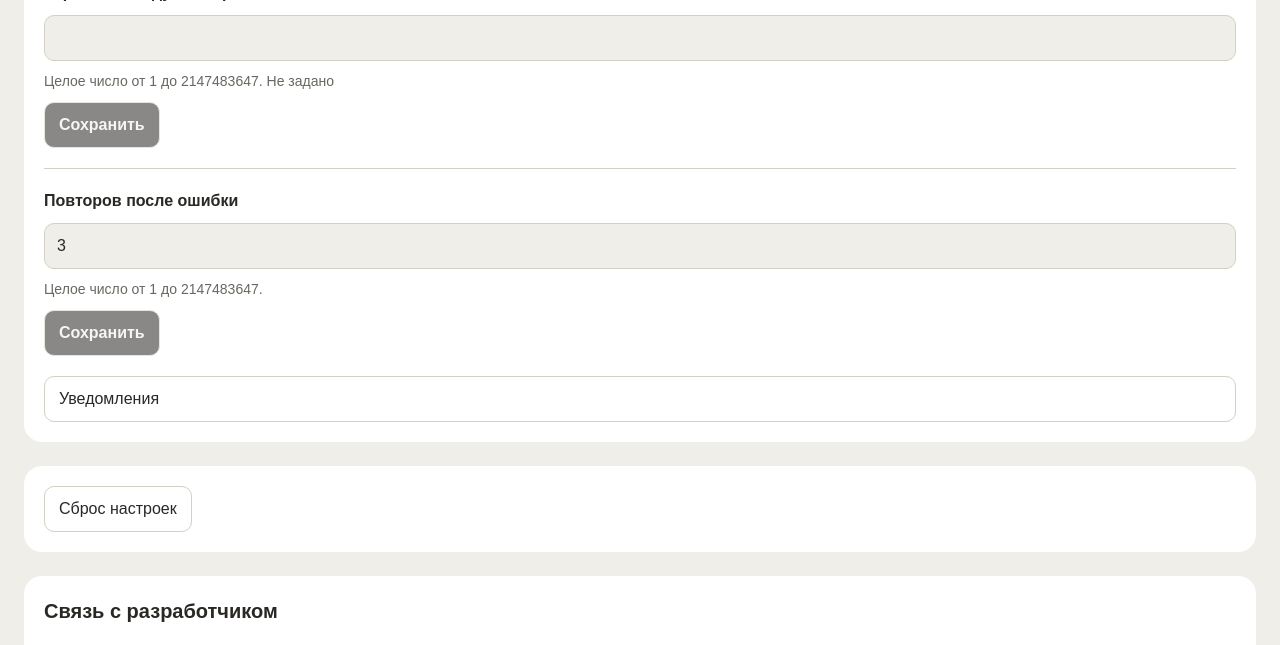
Test case: Settings host: the submenu «Уведомления» › opens from the row, saves a switch at once with one command, and Telegram's Back returns to the settings
(page scrolled)
Click the button "Уведомления".
click(109, 398)  # box 44,376 -> 1236,422
(page scrolled)
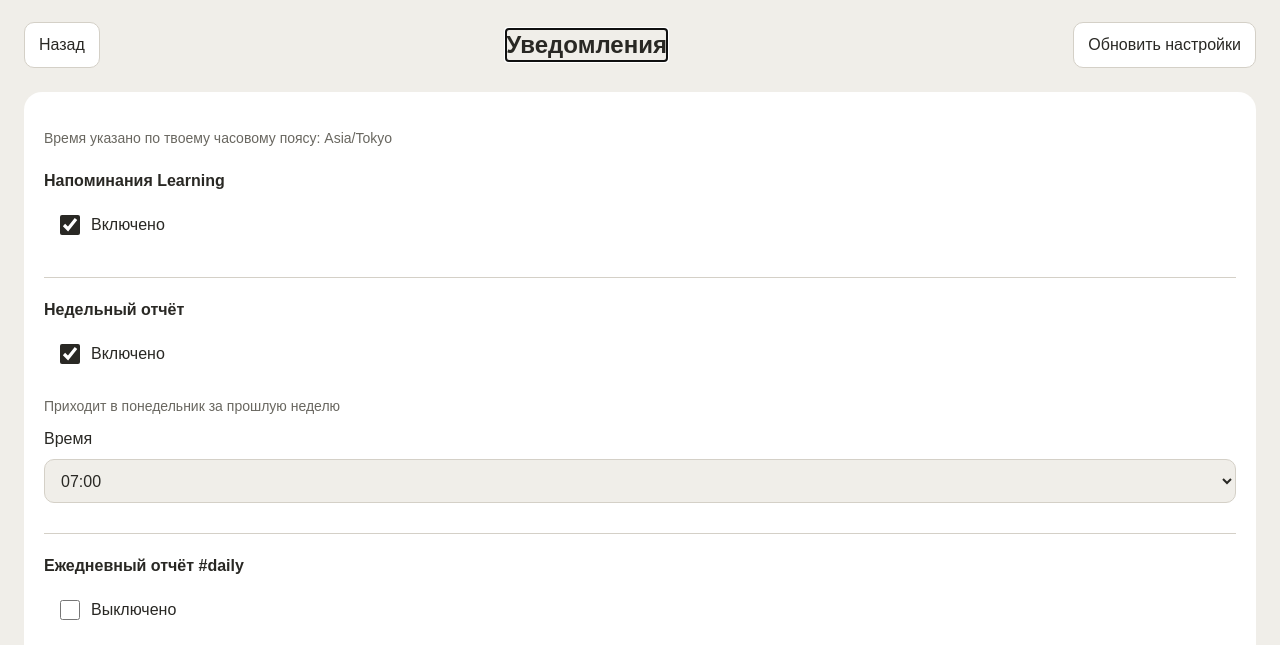
expect the heading "Уведомления" is shown: met, box 506,29 -> 667,61
expect the switch labelled "Включено" below "Недельный отчёт" is enabled: met
Click the switch labelled "Включено" below "Недельный отчёт".
click(70, 354)  # box 60,344 -> 80,364
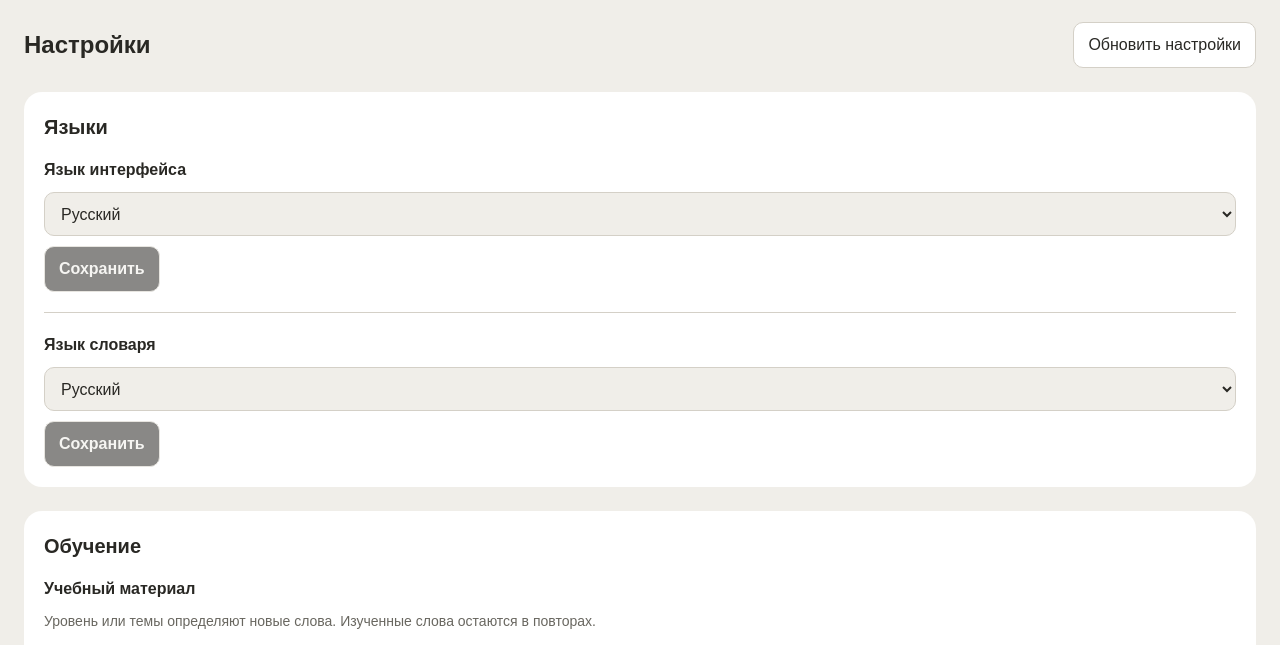
expect the heading "Настройки" is shown: met, box 24,29 -> 151,61
